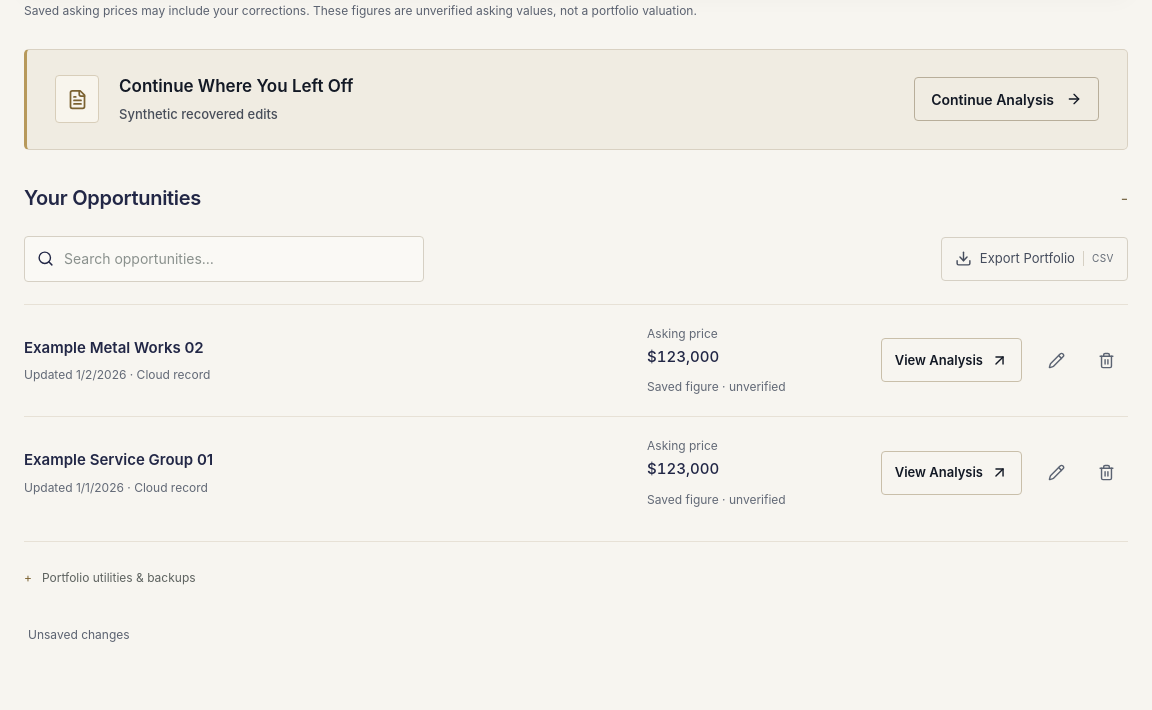
Acquisition Workspace with a synthetic cloud repository › keeps home and the draft on cancellation, then opens only after a successful confirmed read
(page scrolled)
Click the button "View Analysis" in the row of "Example Metal Works 02" at (951, 360), box [881, 338, 1022, 382]
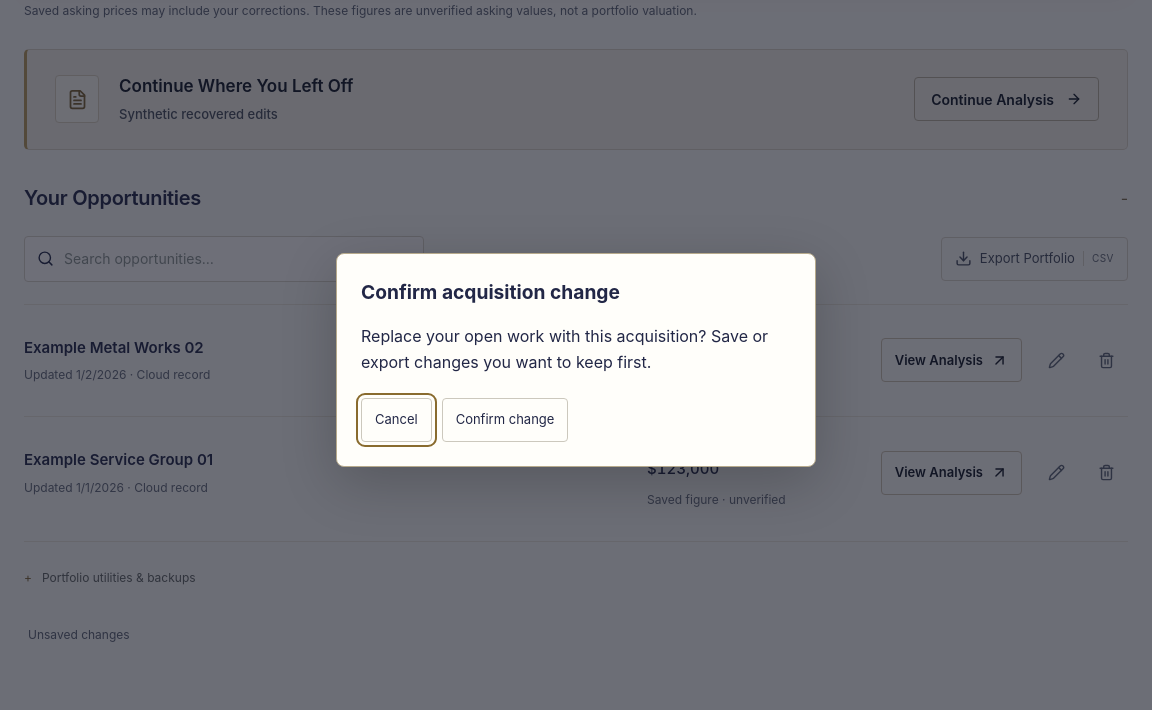
Click the button "Cancel" at (396, 420), box [361, 398, 432, 442]
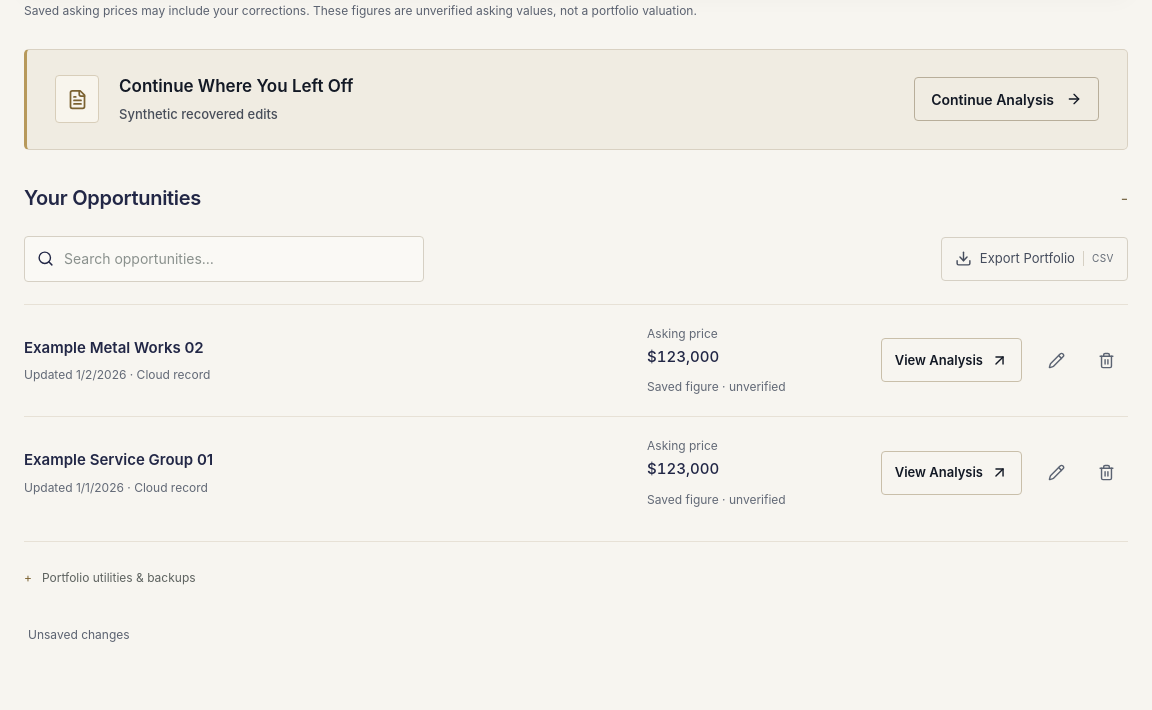
Click the button "View Analysis" in the row of "Example Metal Works 02" at (951, 360), box [881, 338, 1022, 382]
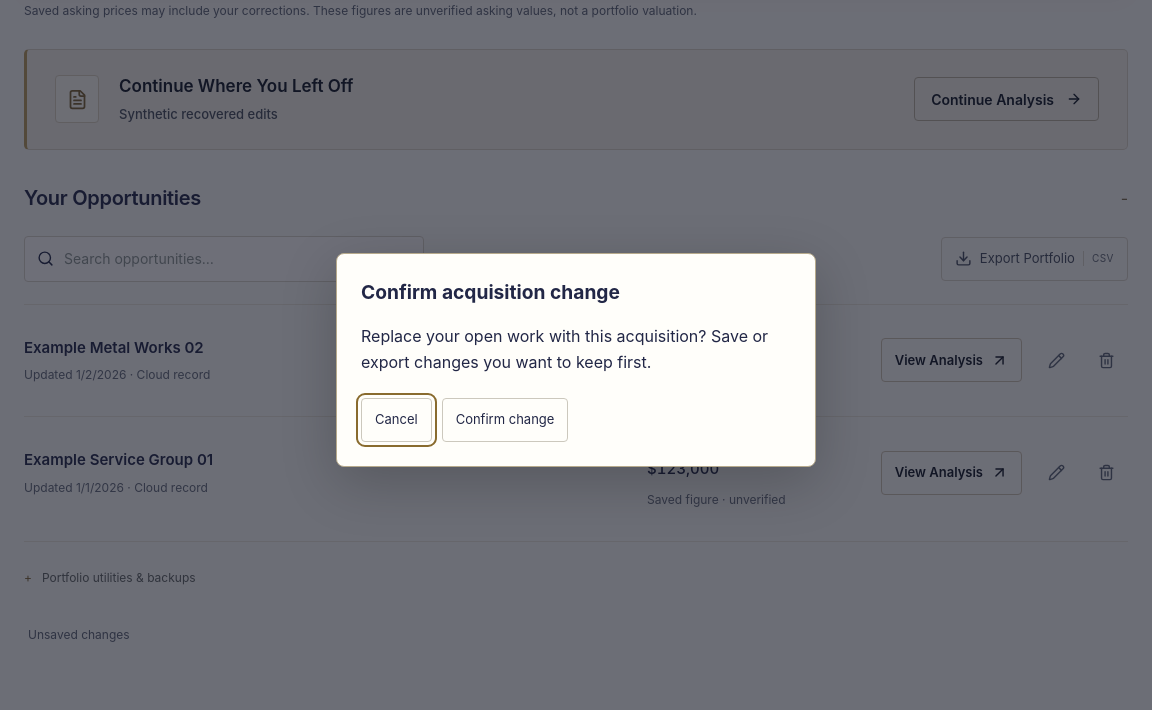
Click the button "Confirm change" at (505, 420), box [442, 398, 568, 442]
(page scrolled)
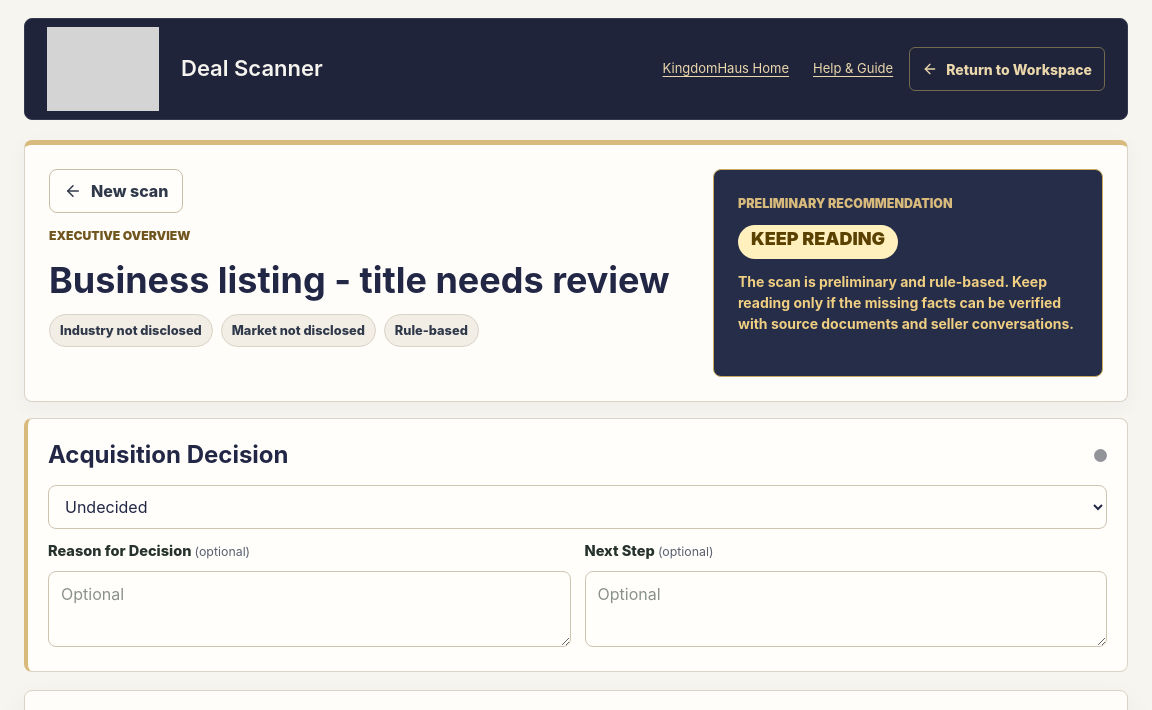
Expected: the button "Return to Workspace" is shown, [909, 47, 1105, 91]
